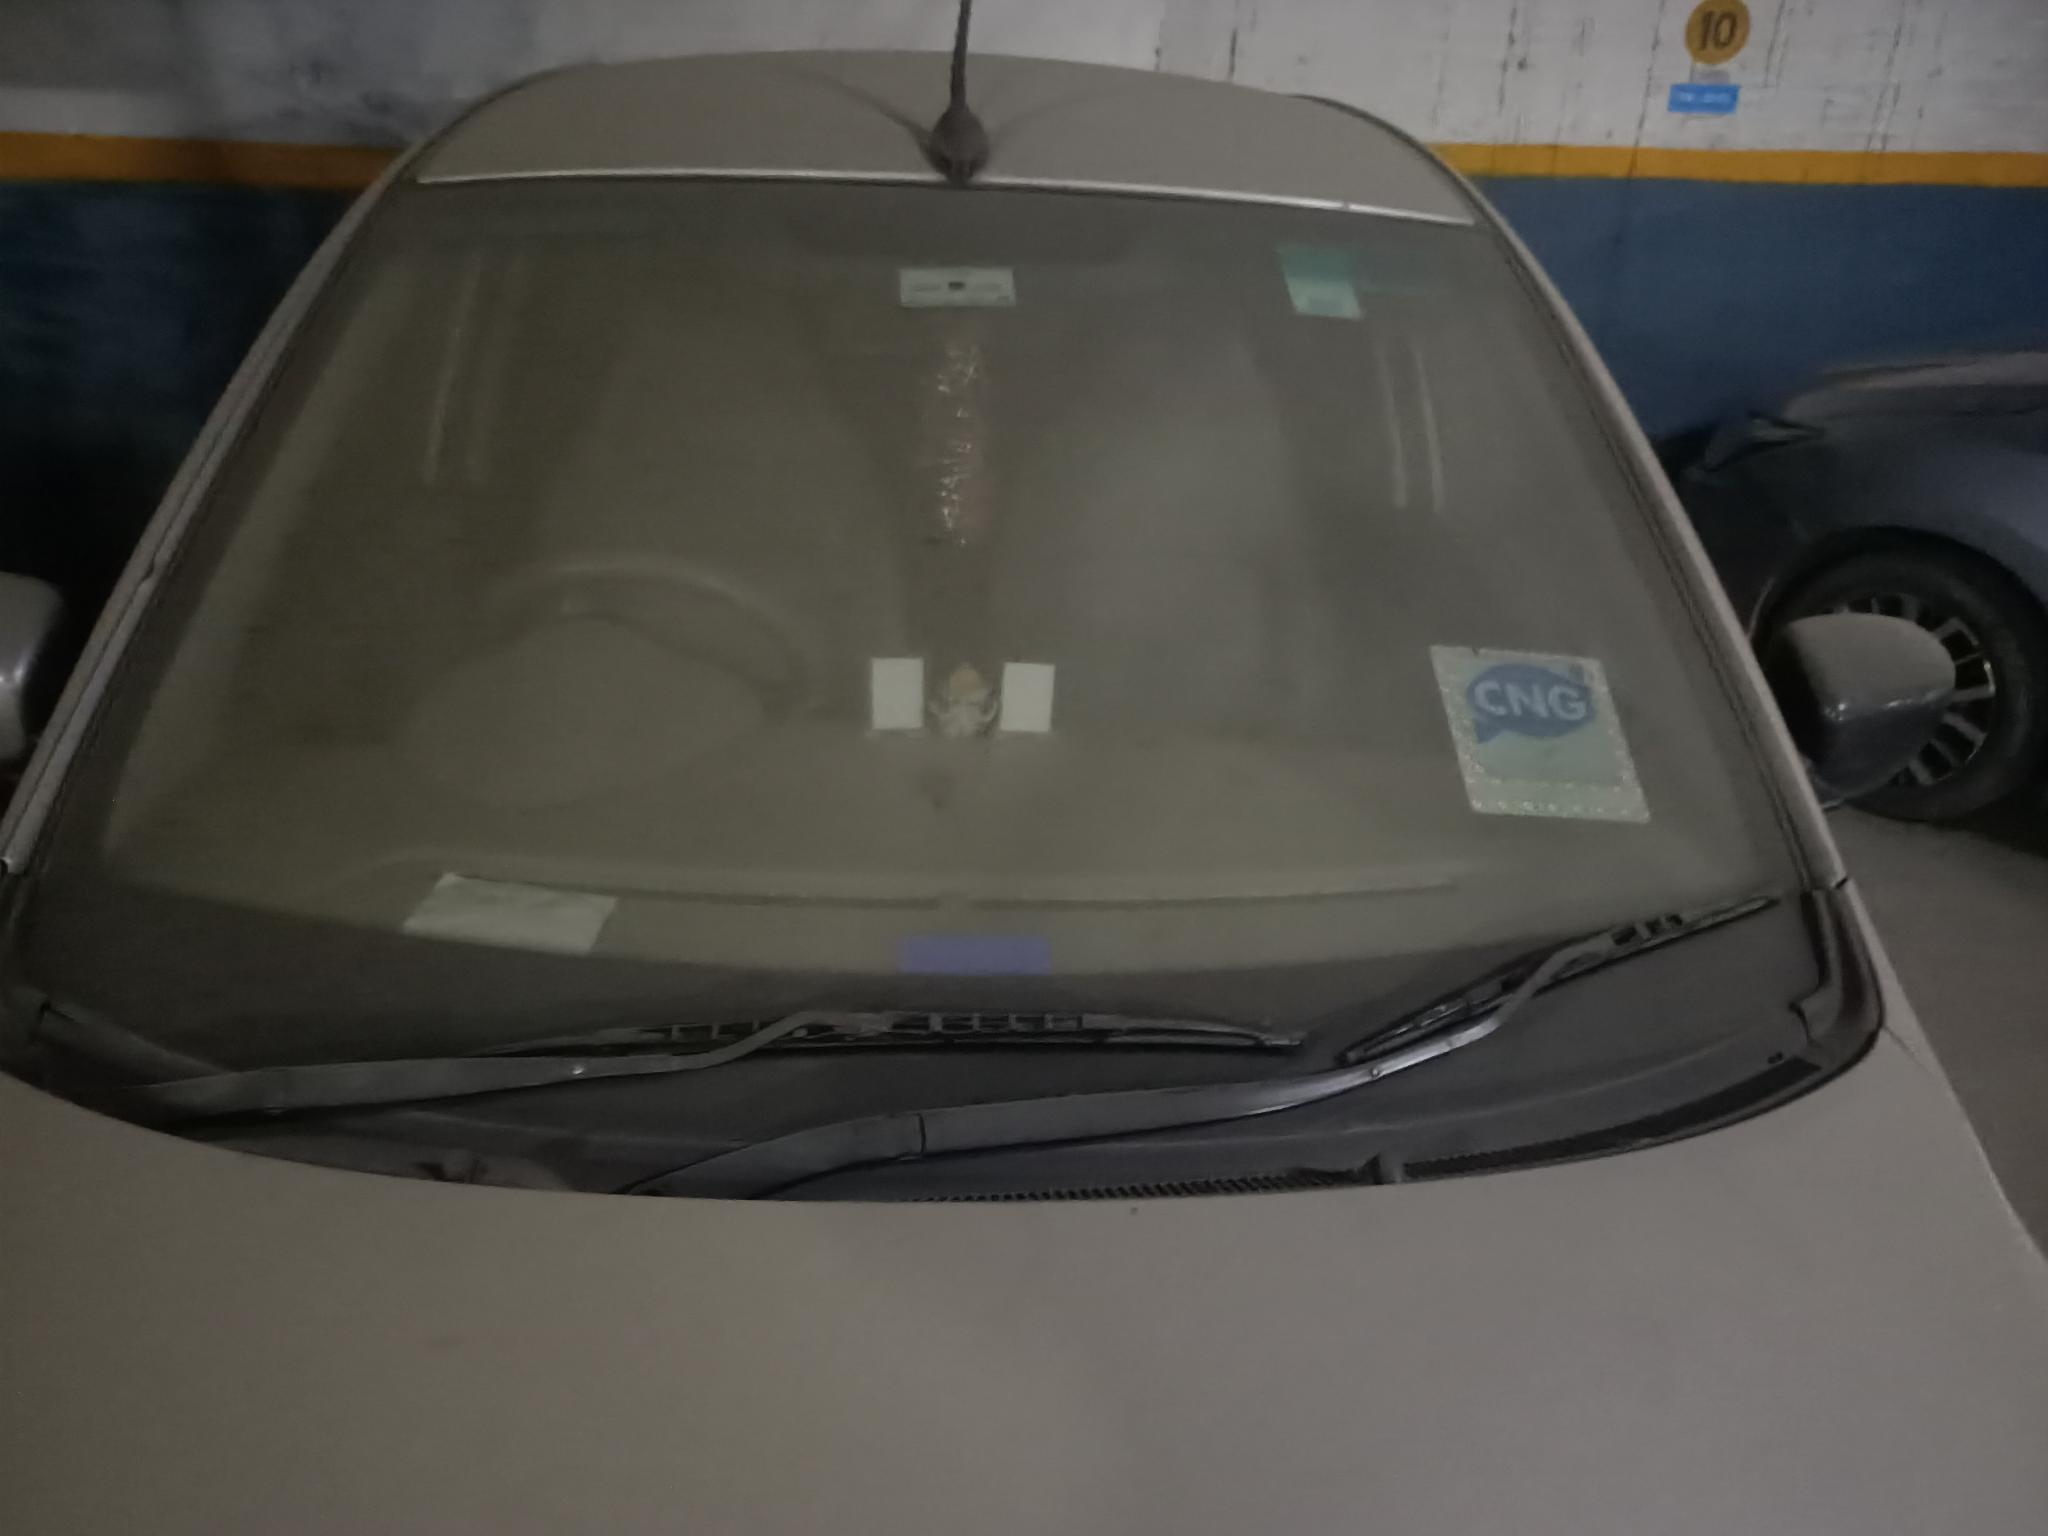FastTag: (880, 257, 1024, 324)
not a FastTag: (1414, 629, 1664, 837), (1256, 229, 1367, 324)
